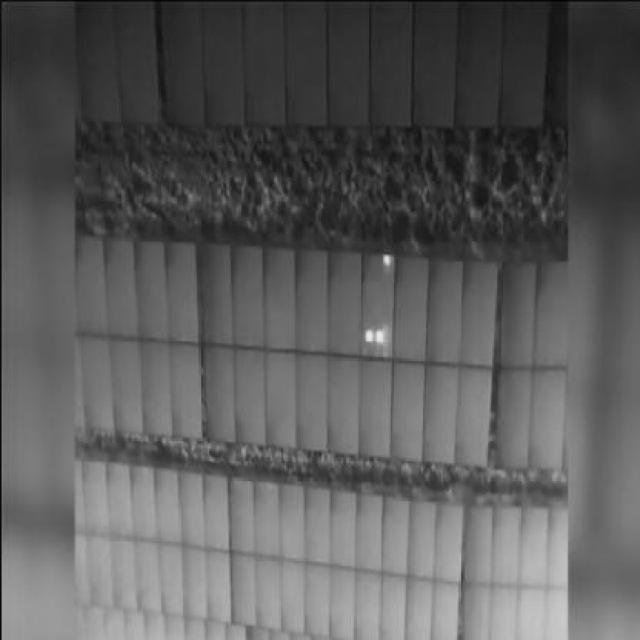hotspot: (371, 324, 384, 342), (362, 325, 372, 344), (382, 251, 389, 266)
